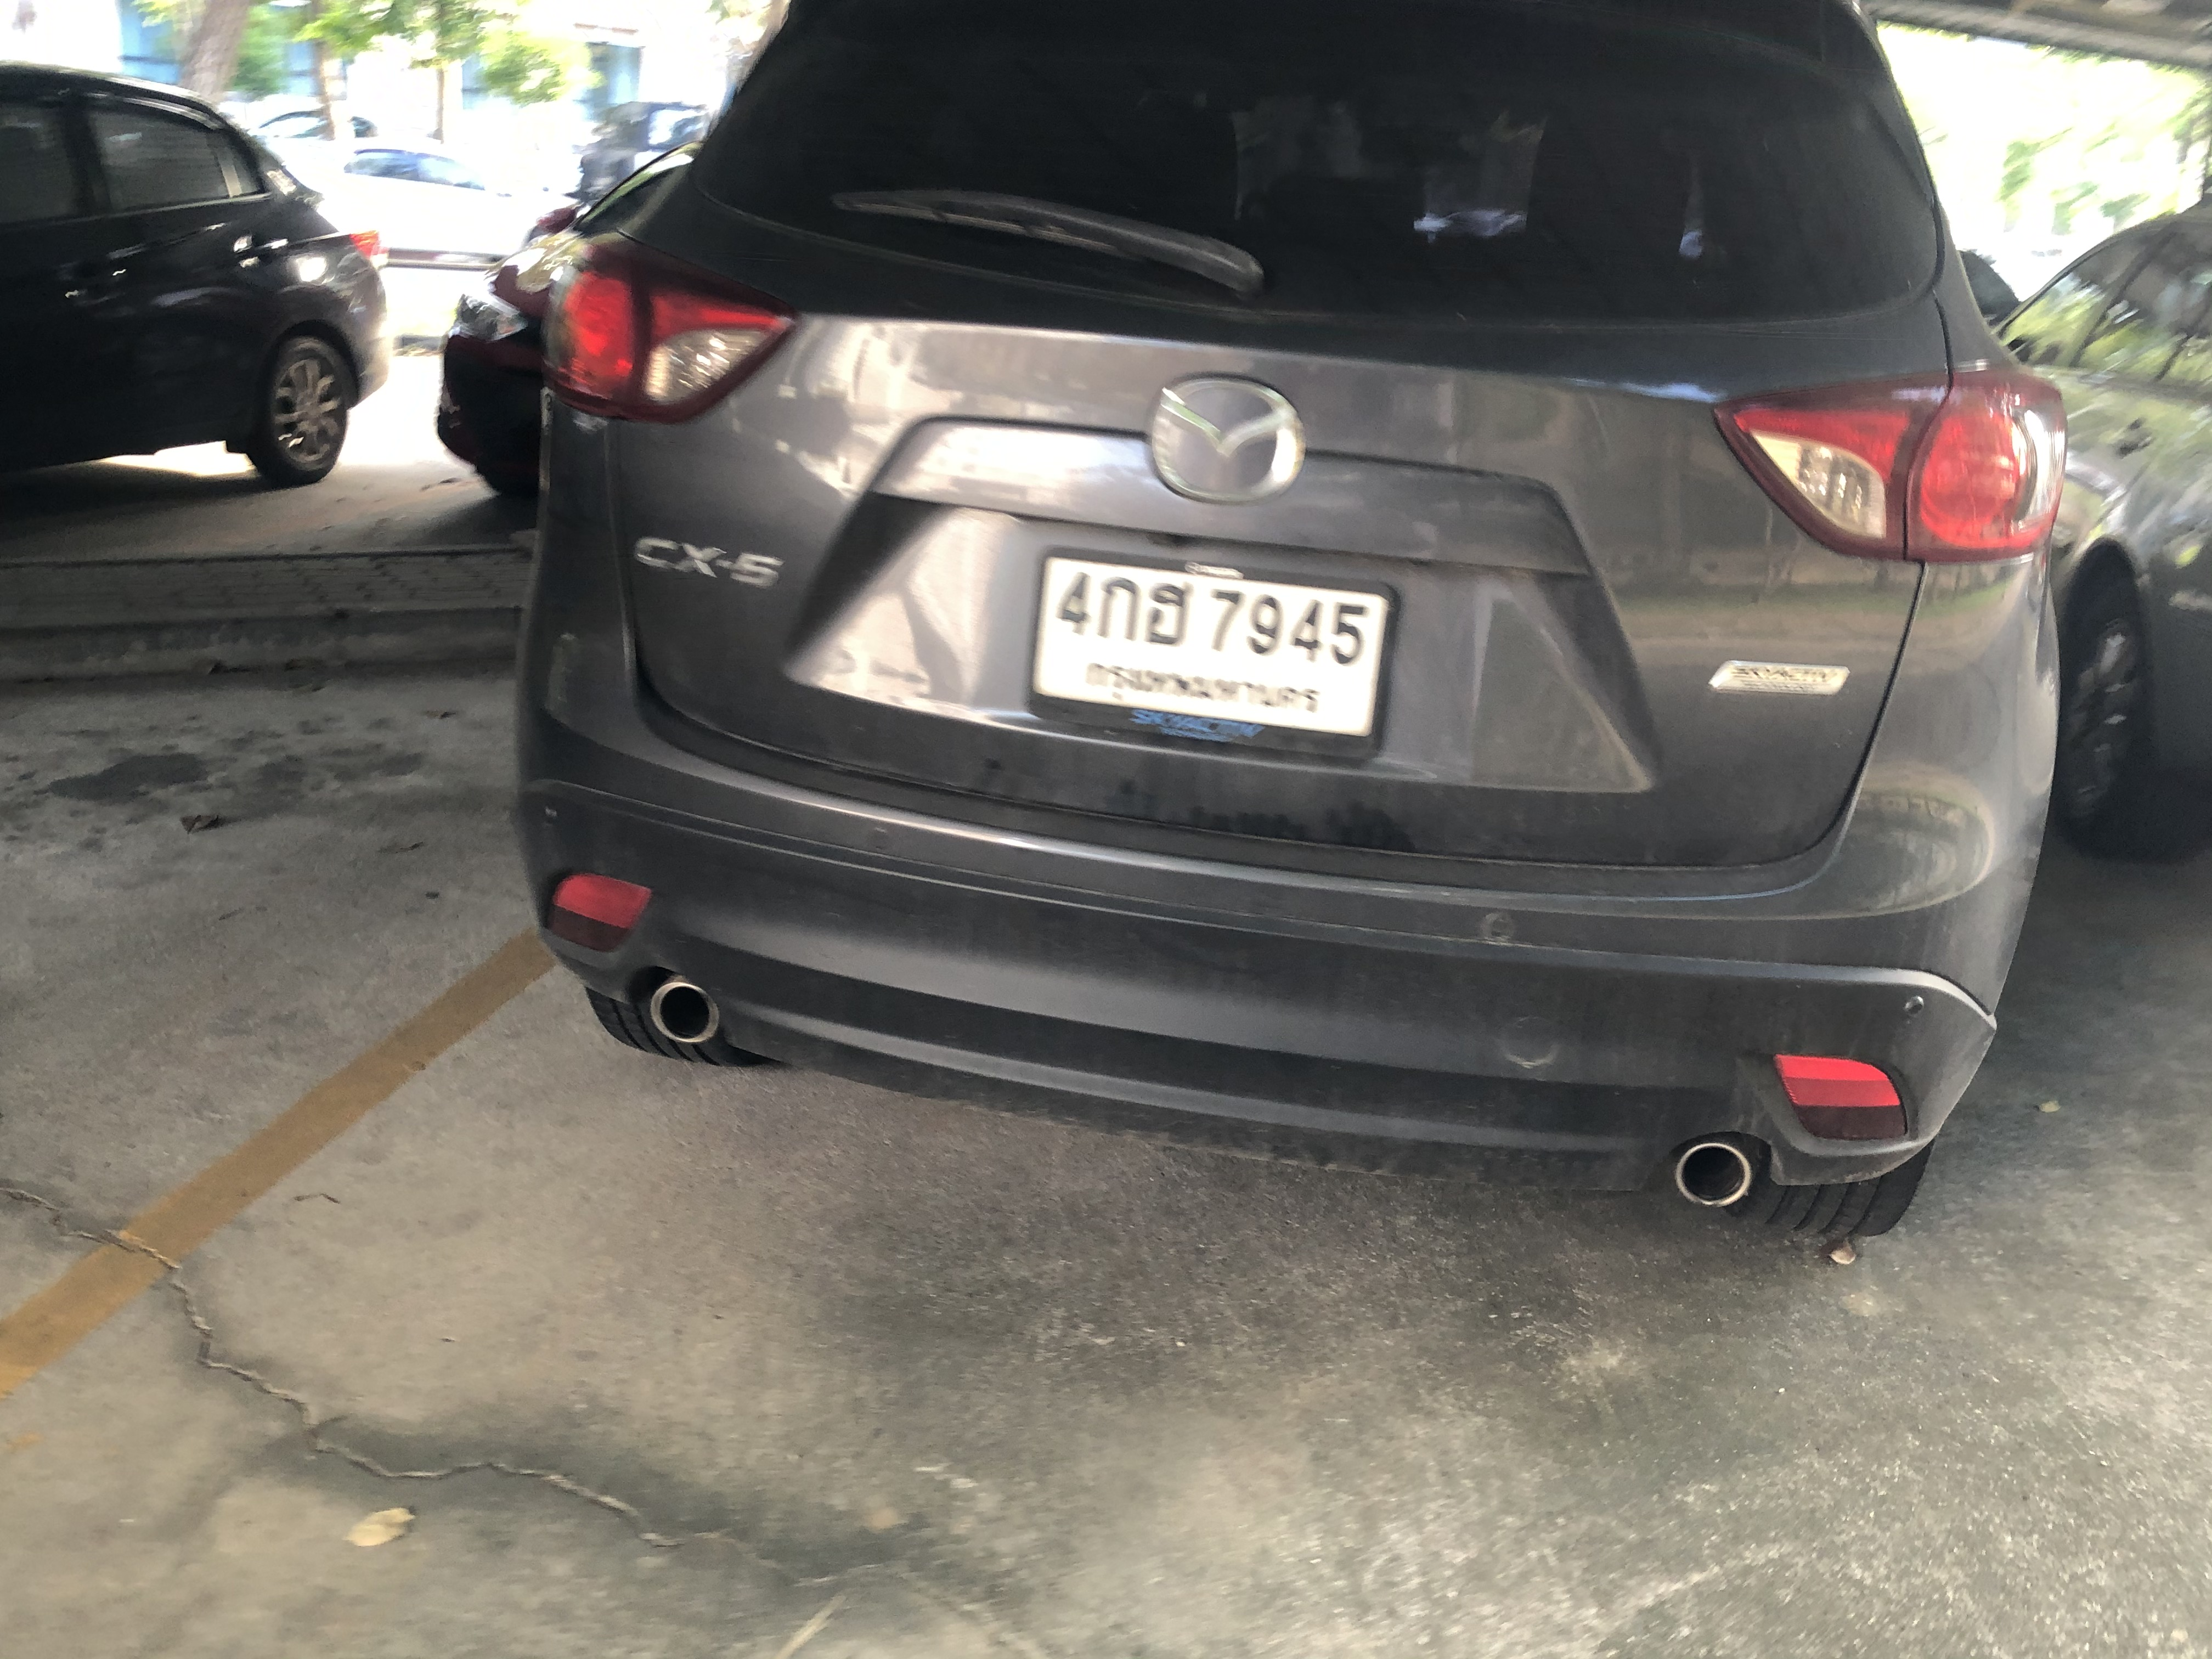in: (1036, 559, 1386, 737)
out: (1026, 544, 1406, 763)
